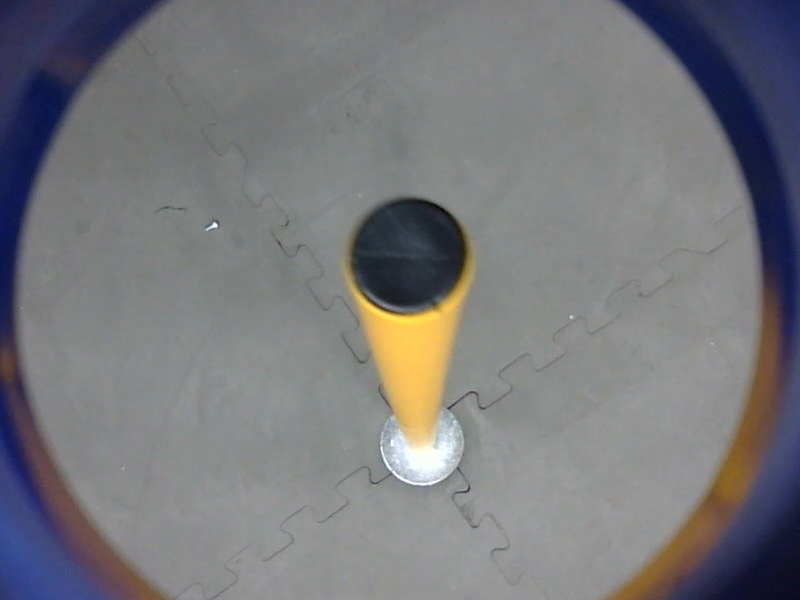tip: (336, 189, 480, 332)
